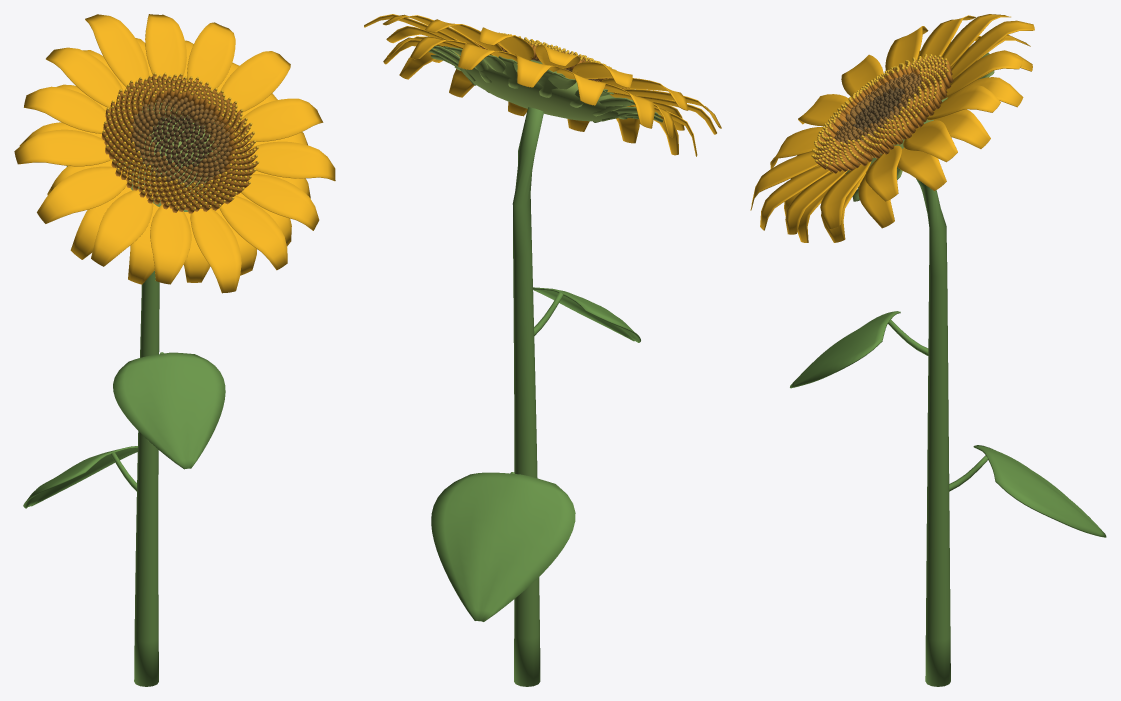
The model's file is flower-helianthus.glb.
3 views of the same model, side by side, from view 1: azimuth 30°, elevation 25°; view 2: azimuth 150°, elevation 25°; view 3: azimuth 270°, elevation 25° (orthographic). The views are drawn at different scales.
Visible parts, largest first — view 1: hero_rays, leaves, hero_disc_open, stem, hero_disc_center, head_back_full; view 2: leaves, hero_rays, stem, head_back_full, hero_disc_open; view 3: hero_rays, stem, leaves, hero_disc_open, hero_disc_center.
Boxes of the visible parts, box(x1,y1,x2,y2) form: hero_rays: box(14, 14, 335, 293); leaves: box(23, 352, 225, 508); hero_disc_open: box(101, 72, 259, 213); stem: box(134, 270, 159, 686); hero_disc_center: box(130, 95, 232, 188); head_back_full: box(66, 100, 239, 211); leaves: box(431, 287, 640, 621); hero_rays: box(364, 14, 721, 156); stem: box(512, 107, 543, 686); head_back_full: box(428, 45, 663, 122); hero_disc_open: box(473, 32, 629, 88); hero_rays: box(750, 14, 1034, 242); stem: box(916, 178, 950, 686); leaves: box(790, 311, 1106, 537); hero_disc_open: box(811, 54, 953, 173); hero_disc_center: box(834, 72, 922, 143).
Bounding box in the file's own units: 15.06 × 30.98 × 15.31.
